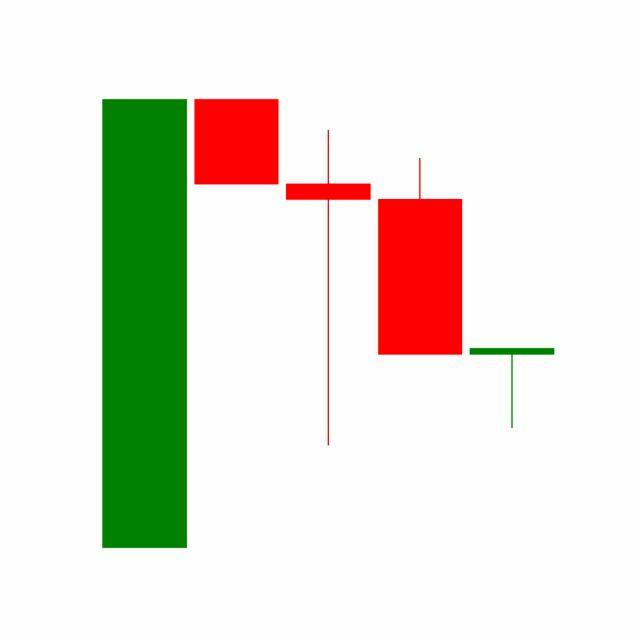Hammer: (466, 348, 559, 431)
